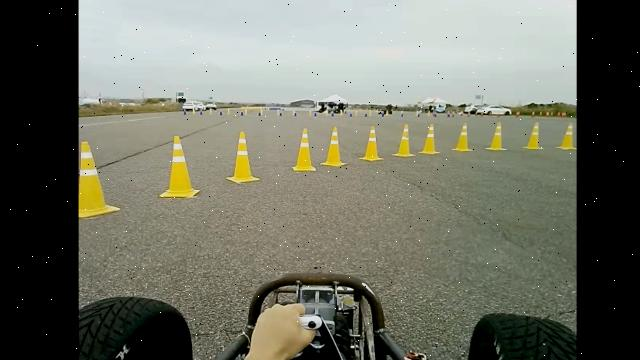yellow cone: (79, 140, 121, 219), (159, 135, 201, 198), (226, 131, 260, 183), (320, 126, 348, 166), (292, 128, 316, 171), (359, 125, 384, 161), (392, 123, 416, 157), (418, 122, 441, 154), (485, 121, 508, 151), (452, 121, 474, 152), (523, 121, 544, 150), (556, 122, 576, 149)
